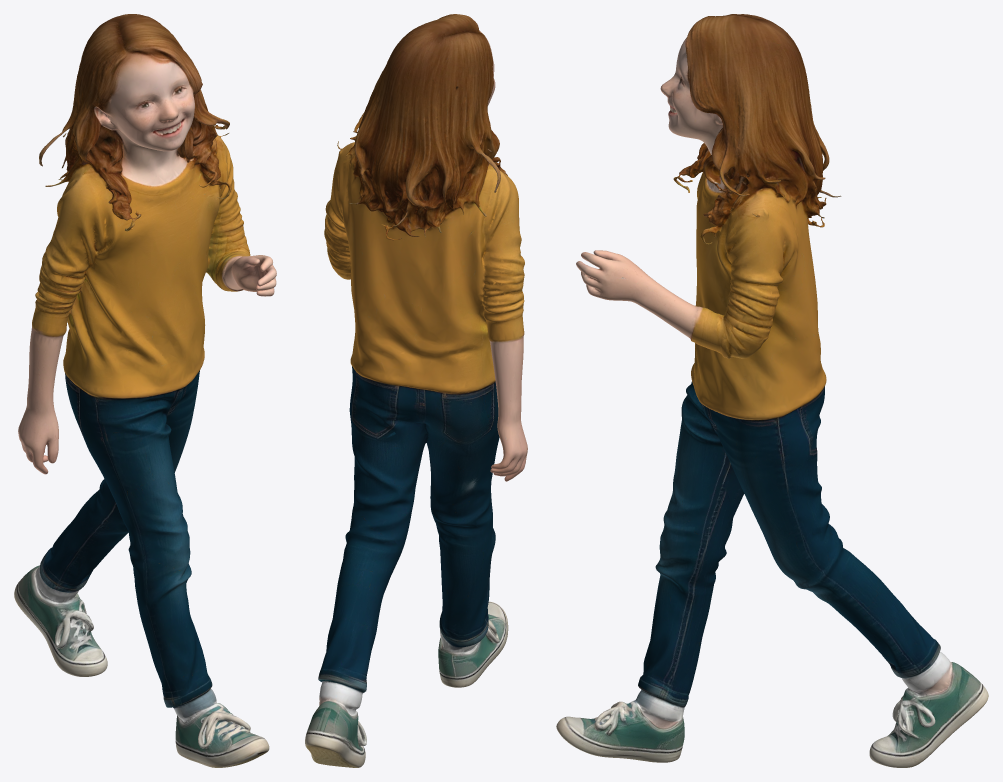
File: girl1.glb
The picture shows the model from 3 angles, left to right: view 1: azimuth 30°, elevation 25°; view 2: azimuth 150°, elevation 25°; view 3: azimuth 270°, elevation 25°; orthographic projection. The views are drawn at different scales.
Visible parts, largest first — view 1: Object_5; view 2: Object_5; view 3: Object_5.
Boxes of the visible parts, left/top/right/bottom form: Object_5: left=14, top=14, right=276, bottom=767; Object_5: left=305, top=14, right=527, bottom=767; Object_5: left=556, top=14, right=988, bottom=767.
Size of the model in its own units: 0.5888 by 1.9 by 1.02.
1 material, 1 textured.
